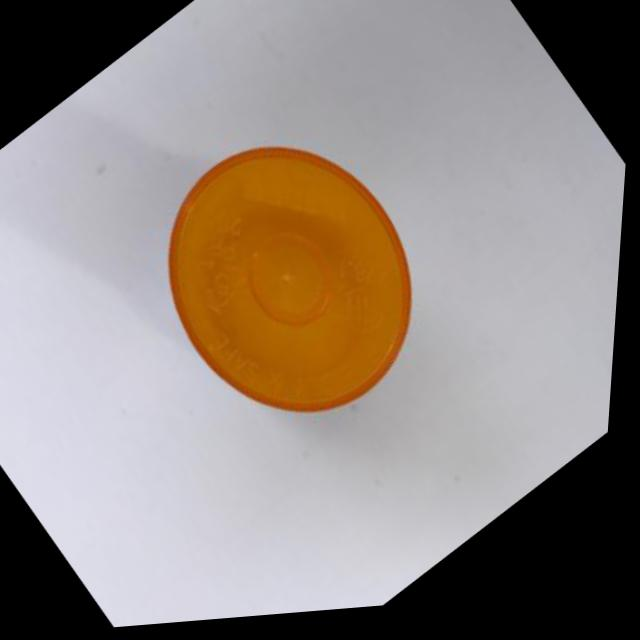plastic: (49, 44, 523, 531)
